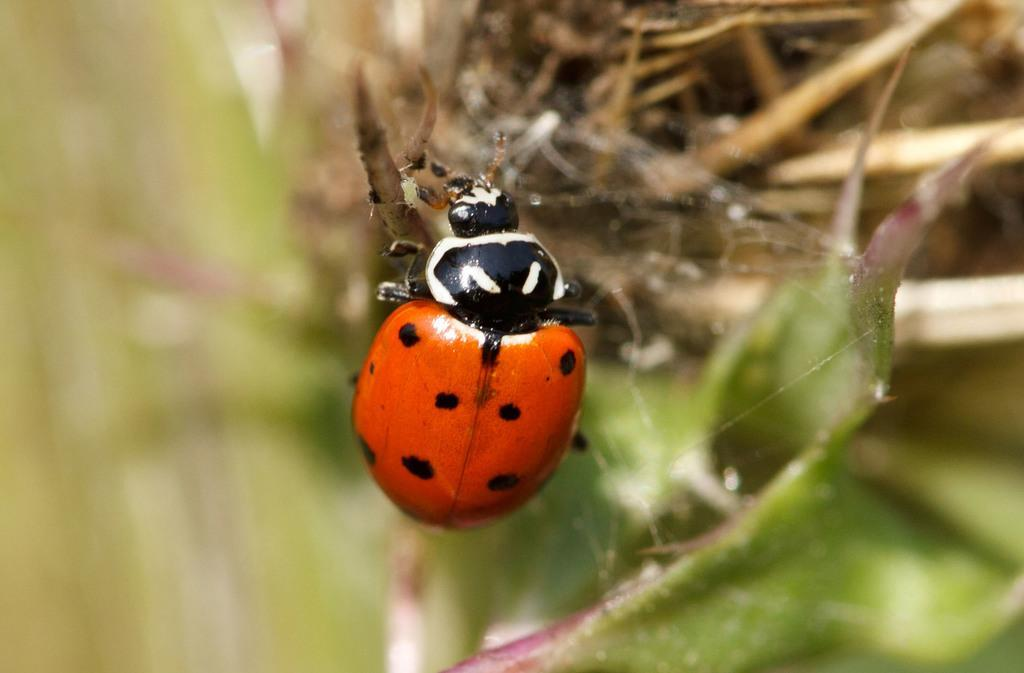ladybug: (347, 127, 603, 539)
